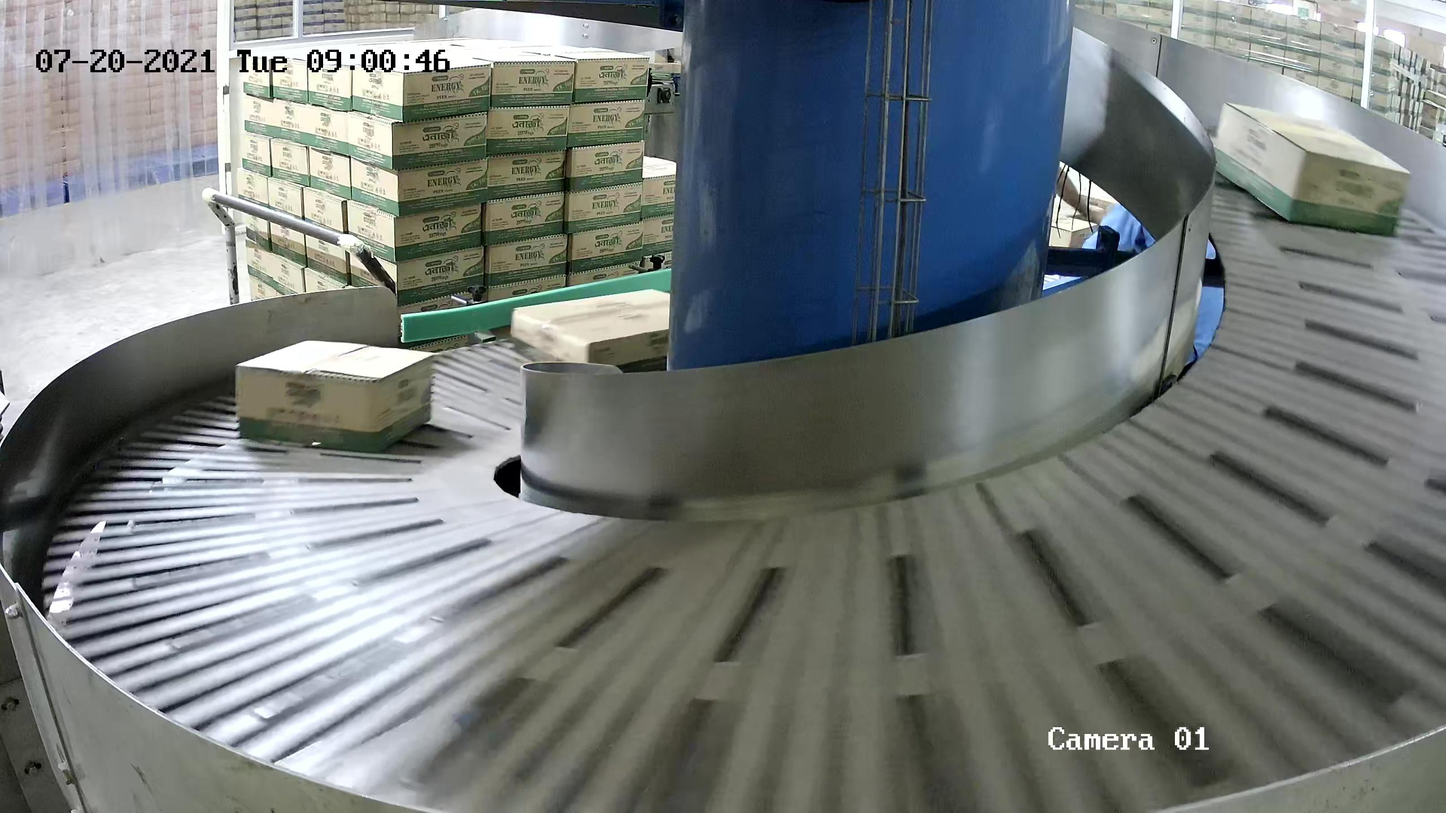Box: (1211, 102, 1412, 239), (236, 339, 435, 452), (512, 288, 703, 389)
